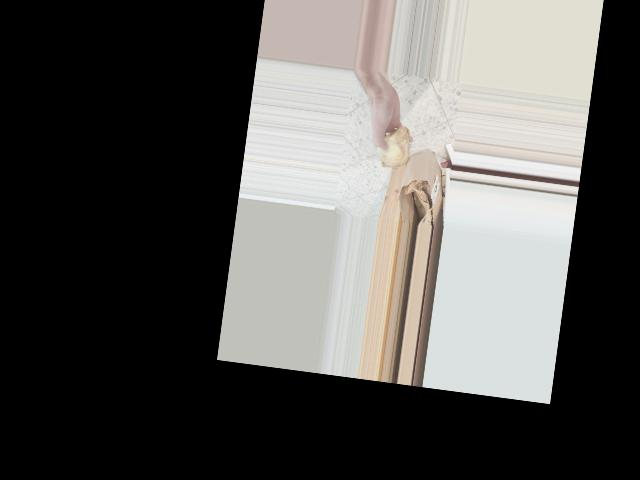onion: (373, 119, 415, 172)
